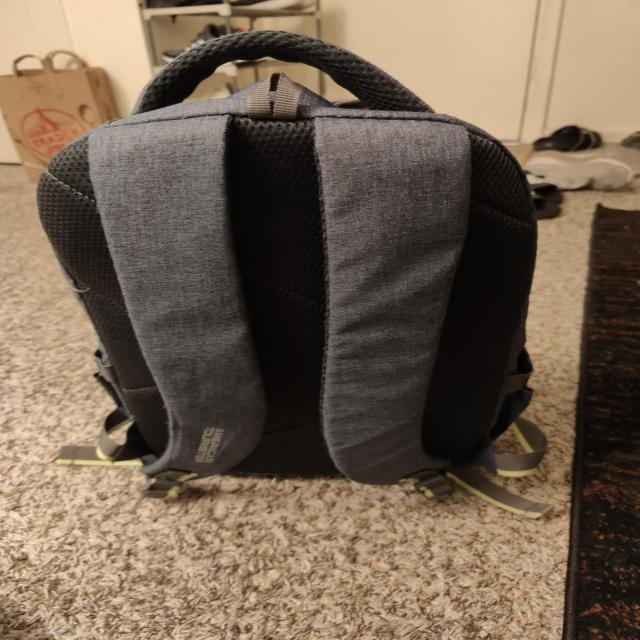bag: (19, 31, 514, 482)
